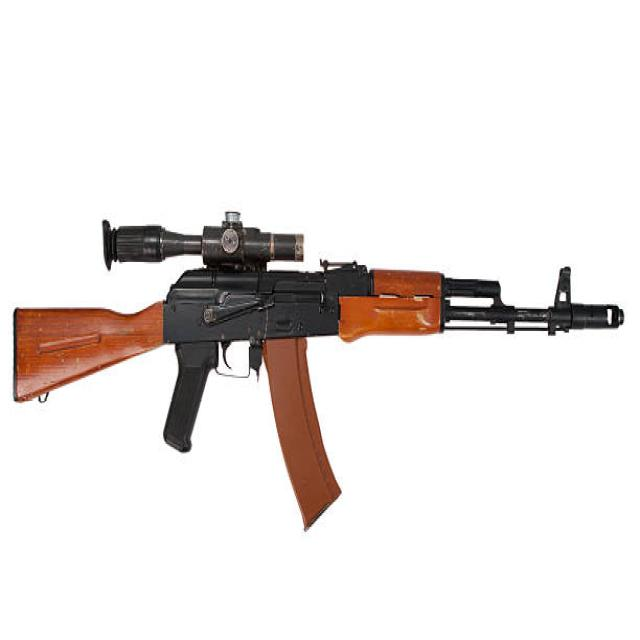rifle: (12, 201, 631, 533)
